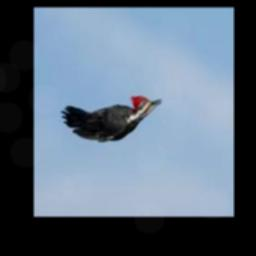Woodpecker: (59, 96, 161, 141)
